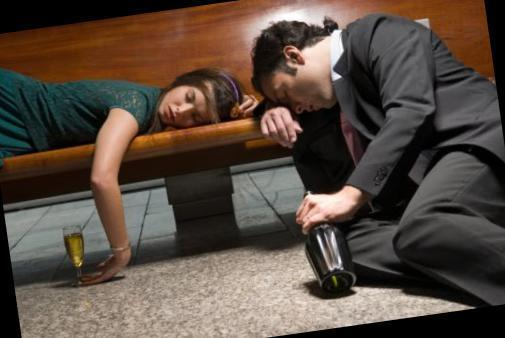Drunk: (256, 70, 341, 117), (155, 84, 221, 127)
